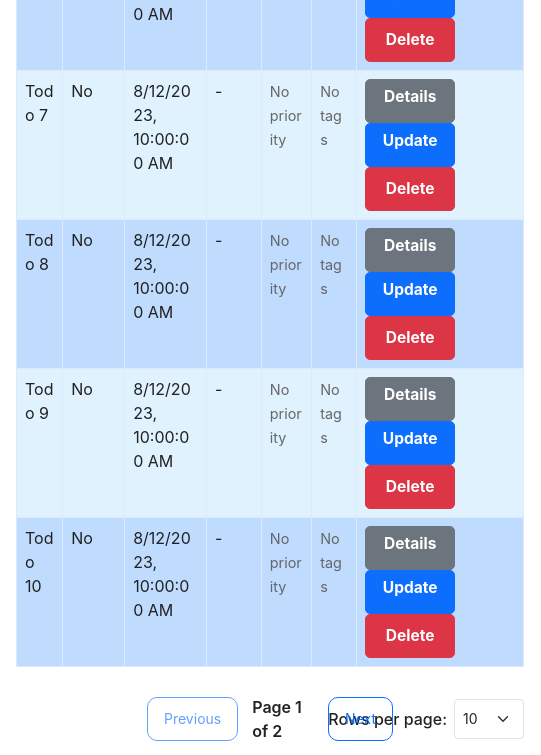
Scenario: TodoList › updates pagination when next button is clicked
This screenshot has width=541, height=755.
(page scrolled)
Expected: the text "Page 1 of 2" is shown, x1=252 y1=697 x2=302 y2=741
Click the button "Next": (361, 719) x1=328 y1=697 x2=393 y2=741
(page scrolled)
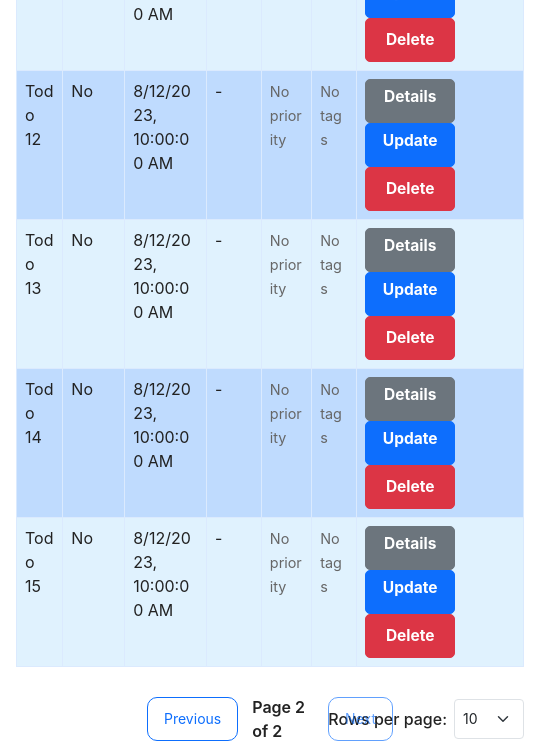
Expected: the text "Page 2 of 2" is shown, x1=252 y1=695 x2=314 y2=743
